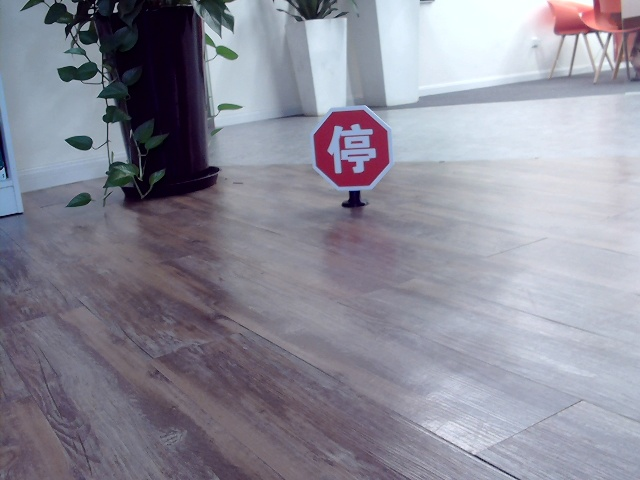stop: (322, 122, 379, 174)
